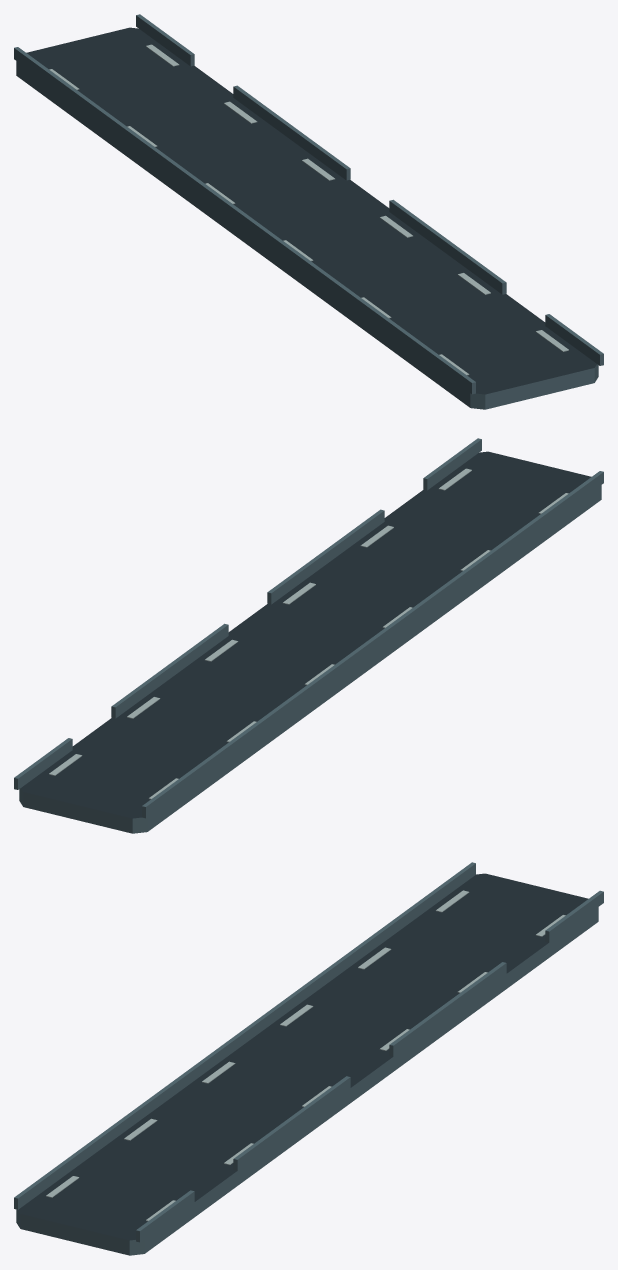
The model's file is airlock.glb.
3 views of the same model, one above another, from view 1: azimuth 30°, elevation 25°; view 2: azimuth 150°, elevation 25°; view 3: azimuth 330°, elevation 25° (orthographic).
Parts seen in each view (by area): view 1: airlock; view 2: airlock; view 3: airlock.
Part boxes in pixels (x1=…): airlock: x1=14, y1=14, x2=603, y2=409; airlock: x1=14, y1=438, x2=603, y2=833; airlock: x1=14, y1=862, x2=603, y2=1255.
Bounding box in the file's own units: 3.82 × 0.75 × 23.85.
